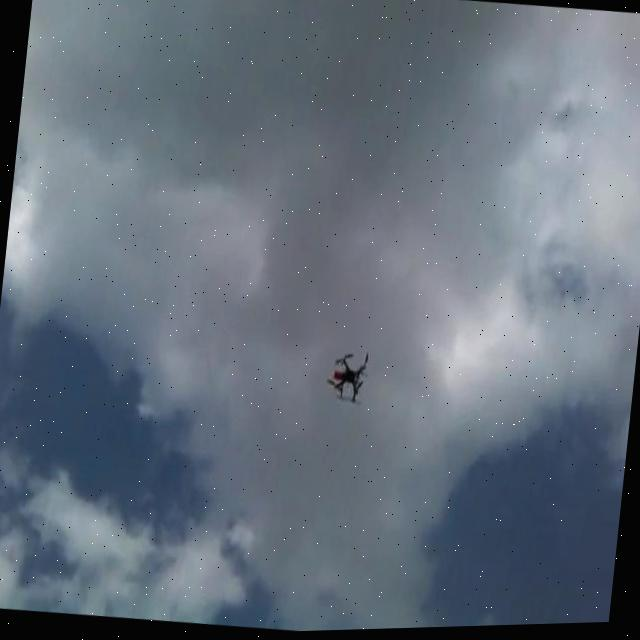drone: (320, 342, 372, 414)
